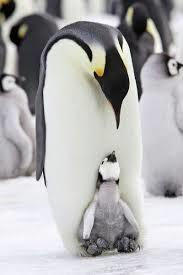emporer: (30, 12, 164, 264)
